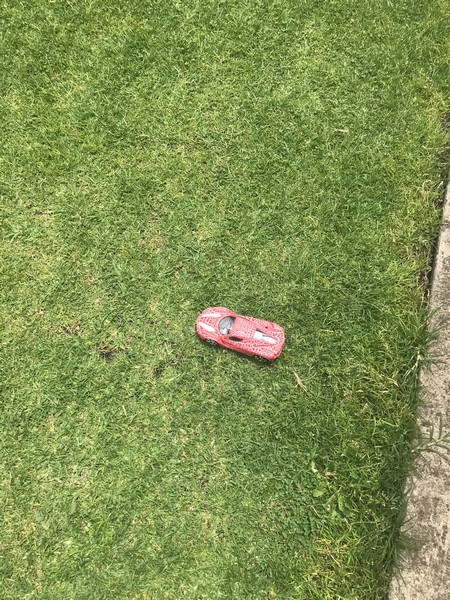RC: (193, 304, 286, 366)
